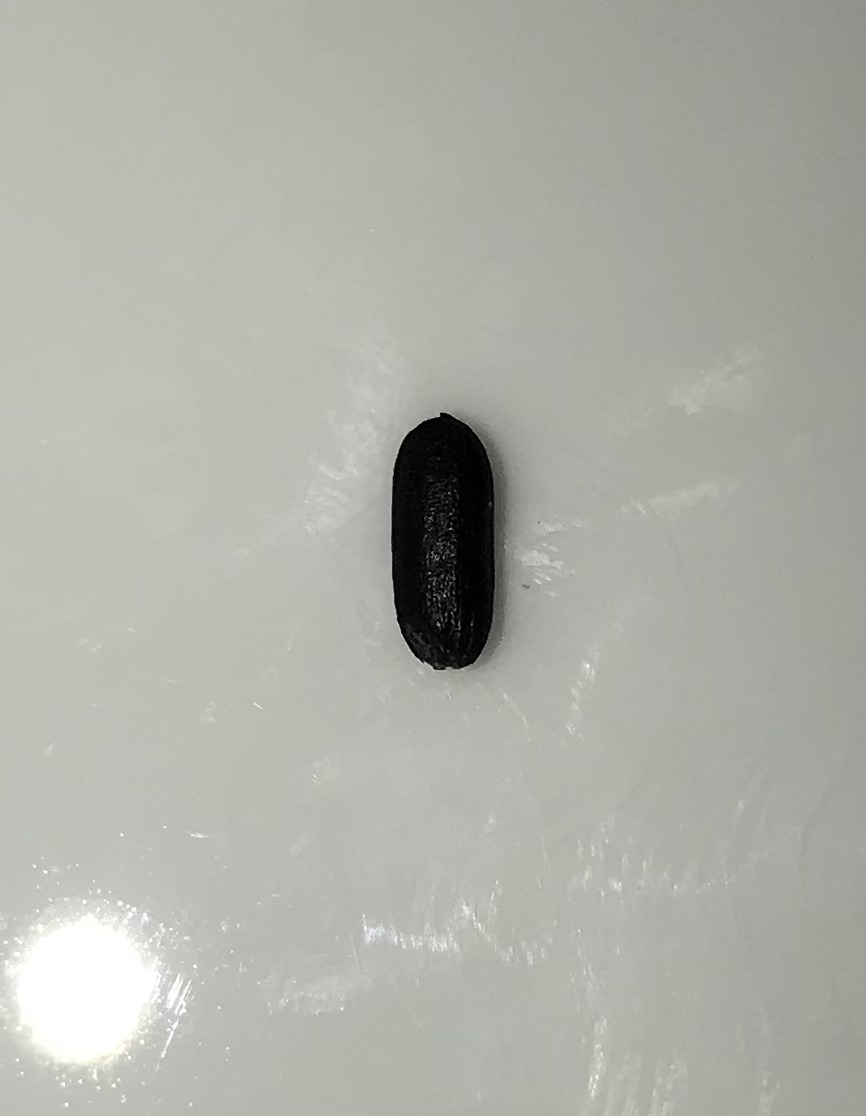Gao lut: (382, 416, 504, 676)
